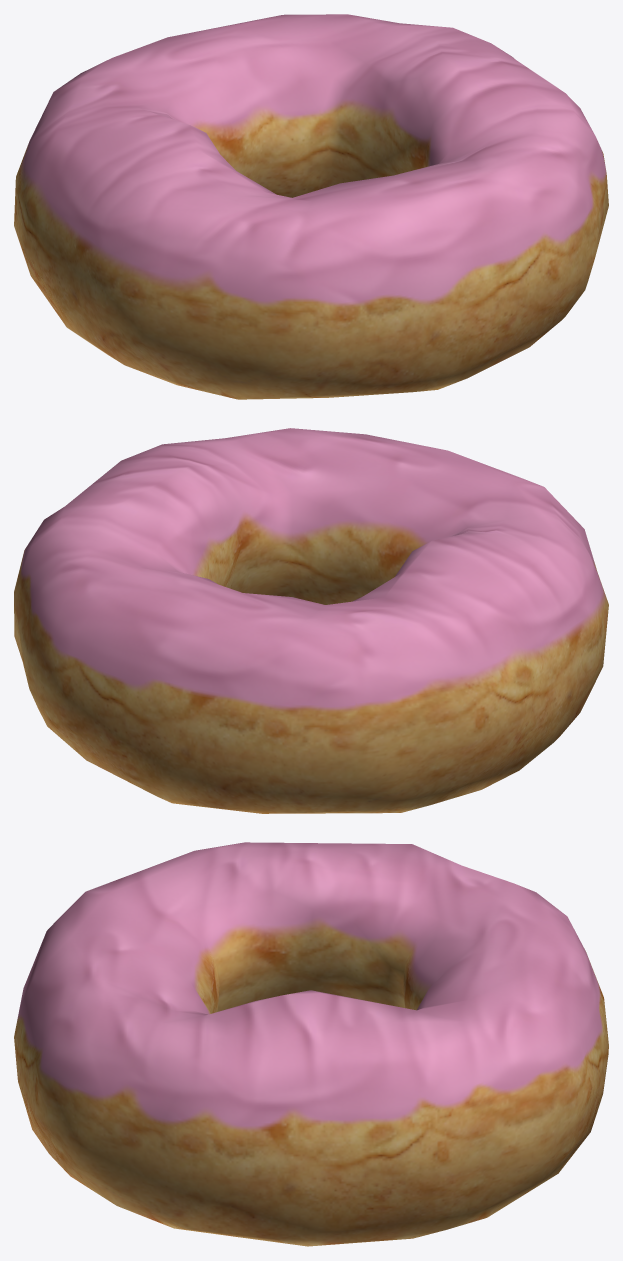
The model's file is donut1.fbx.
3 views of the same model, one above another, from view 1: azimuth 30°, elevation 25°; view 2: azimuth 150°, elevation 25°; view 3: azimuth 270°, elevation 25° (orthographic). The views are drawn at different scales.
Parts seen in each view (by area): view 1: Torus_001; view 2: Torus_001; view 3: Torus_001.
Part boxes in pixels (x1,y1,x2,y2): Torus_001: [14, 14, 608, 399]; Torus_001: [14, 428, 608, 813]; Torus_001: [14, 842, 608, 1246].
Size of the model in its own units: 1.28 by 0.5394 by 1.28.
